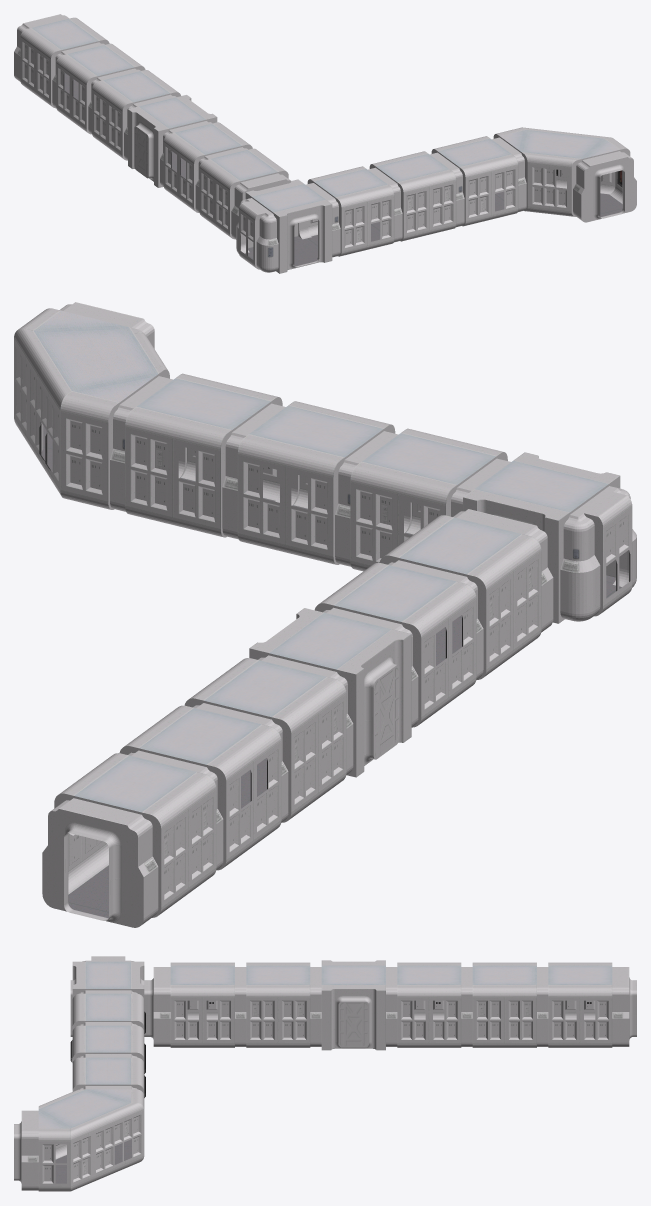
Rendered from thm_spc_corvette_dungeon_r58_hall58_mesh_r58.fbx.
3 views of the same model, one above another, from view 1: azimuth 30°, elevation 25°; view 2: azimuth 150°, elevation 25°; view 3: azimuth 270°, elevation 25° (orthographic). The views are drawn at different scales.
Parts seen in each view (by area): view 1: mesh_node; view 2: mesh_node; view 3: mesh_node.
Part boxes in pixels (left/top/right/bottom): mesh_node: left=14, top=14, right=636, bottom=273; mesh_node: left=14, top=302, right=636, bottom=927; mesh_node: left=14, top=956, right=636, bottom=1191.
Size of the model in its own units: 22.8 by 3.5 by 33.
